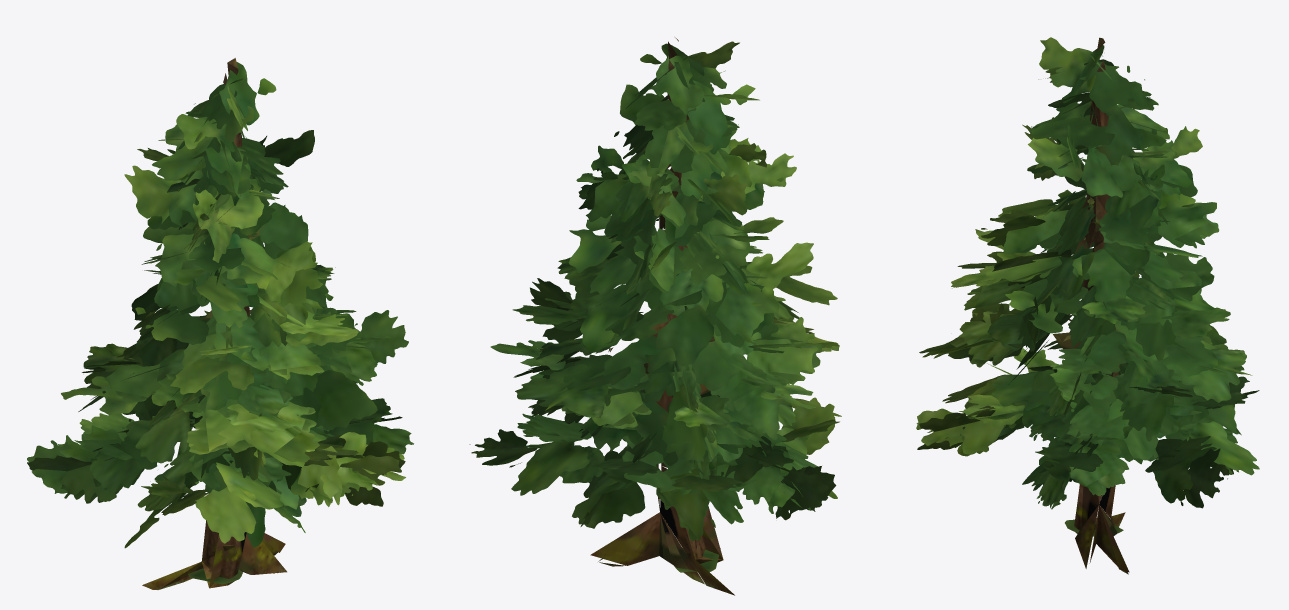
File: koru_ladin_lod2.glb
3 views of the same model, side by side, from view 1: azimuth 30°, elevation 25°; view 2: azimuth 150°, elevation 25°; view 3: azimuth 270°, elevation 25° (orthographic). The views are drawn at different scales.
Visible parts, largest first — view 1: koru_ladin_lod2; view 2: koru_ladin_lod2; view 3: koru_ladin_lod2.
Boxes of the visible parts, bbox=[...] form: koru_ladin_lod2: bbox=[27, 58, 413, 589]; koru_ladin_lod2: bbox=[469, 37, 841, 595]; koru_ladin_lod2: bbox=[916, 37, 1259, 574].
Size of the model in its own units: 8.17 by 11.7 by 7.5.
2 materials, 2 textured.
